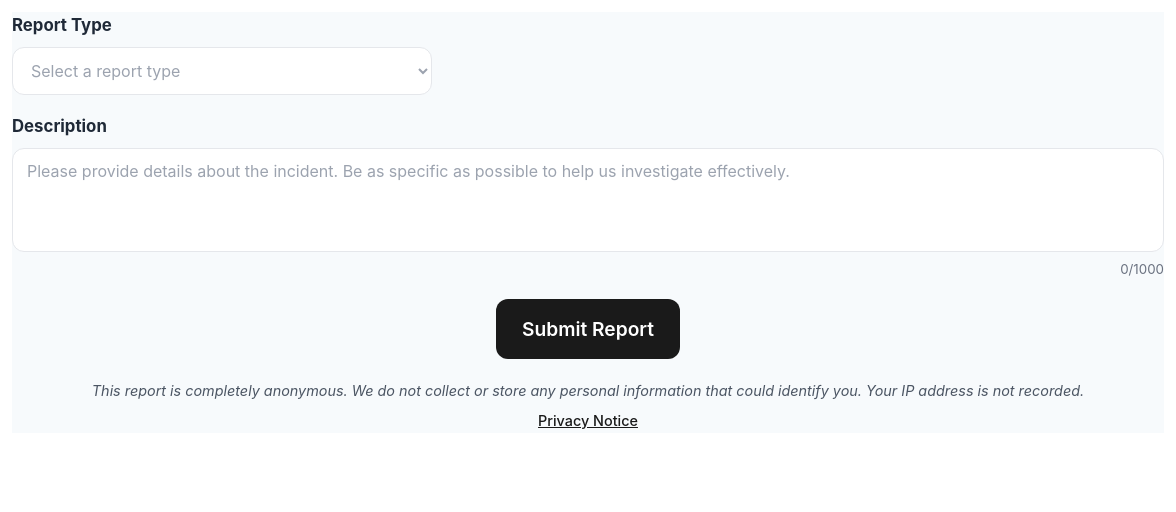
Scenario: ReportForm › should show validation error for empty form submission
// Select a valid report type but leave description too short
Select "Harassment" in the dropdown labelled "Report Type": [222, 71] box [12,47,432,95]
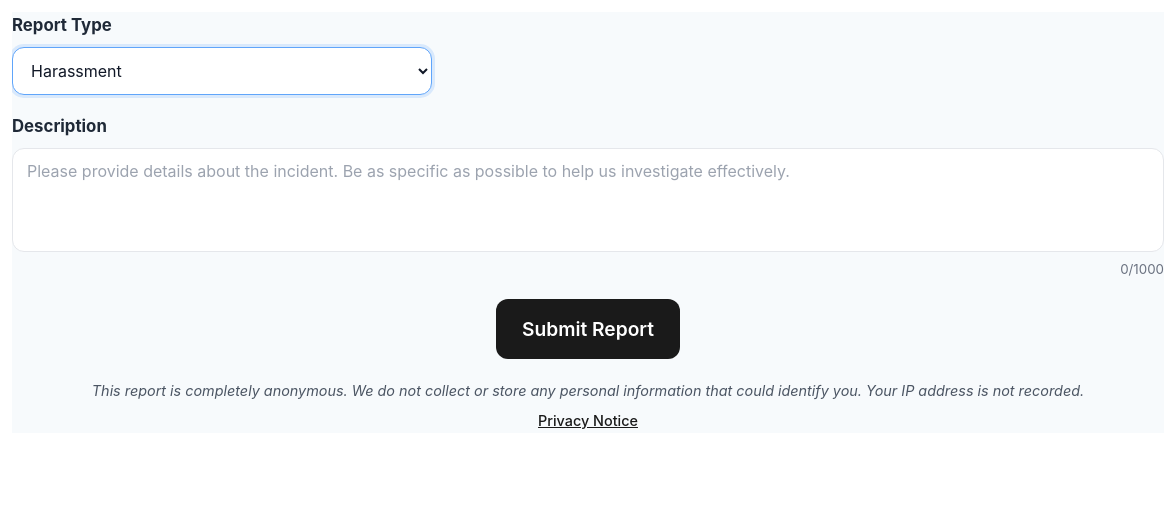
In the text box labelled "Description": [588, 200] box [12,148,1164,252], type "short"
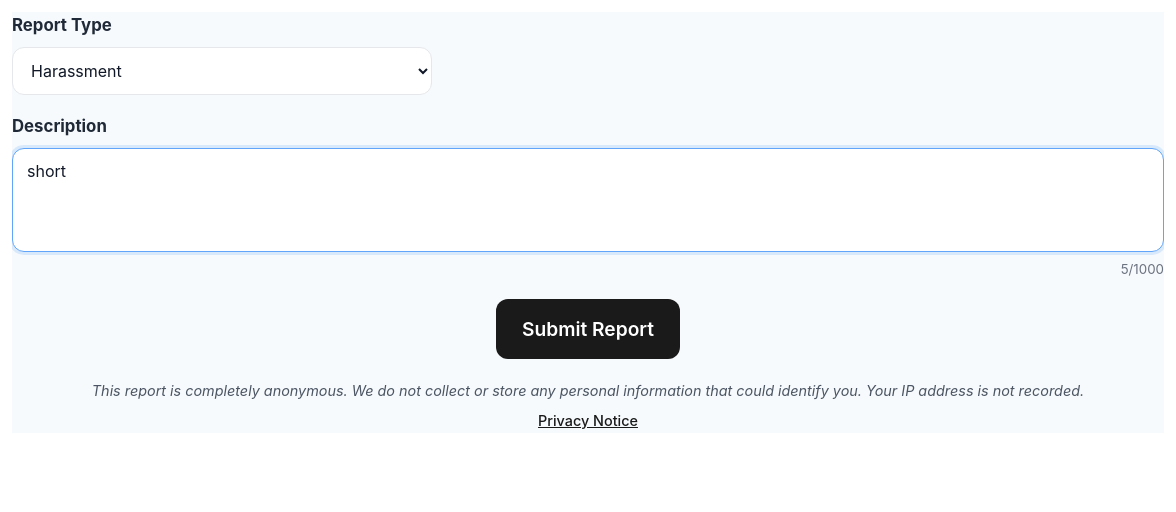
// Now submit the form
Click the button "Submit Report": [588, 329] box [496,299,680,359]
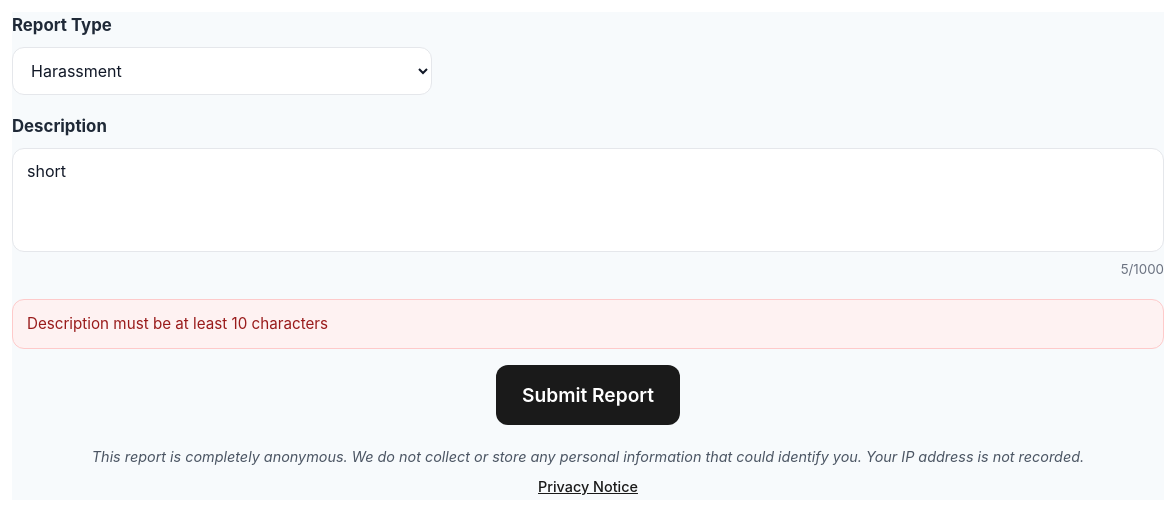
Expected: the text "Description must be at least 10 characters" is shown, [12,299,1164,349]
